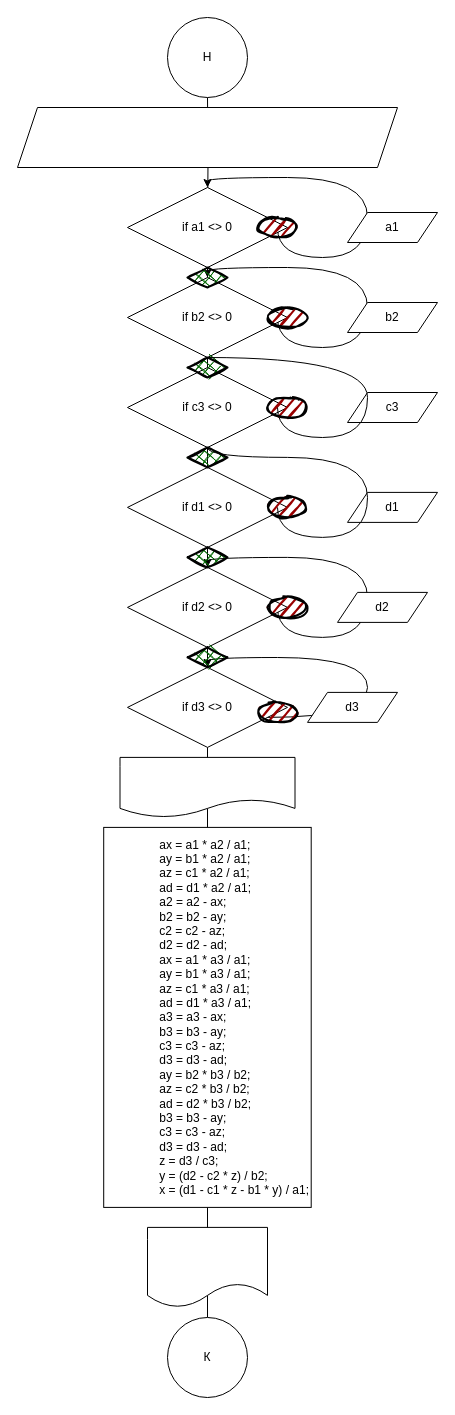
The diagram is 455 pixels wide and 1415 high, and some of its shapes have lost their labels. Each missing label, with the centre of its shape:
"a1, a2, a3, b1, b2, b3, c1, c2, c3, d1, d2, d3, ax, ay, az, ad, x, y, z;" goes at (x=207, y=137).
"a1x + b1y + c1z = d1 a2x + b2y + c2z = d2 a3x + b3y + c3z = d3" goes at (x=207, y=786).
"Ответ: x, y, z." goes at (x=207, y=1266).
